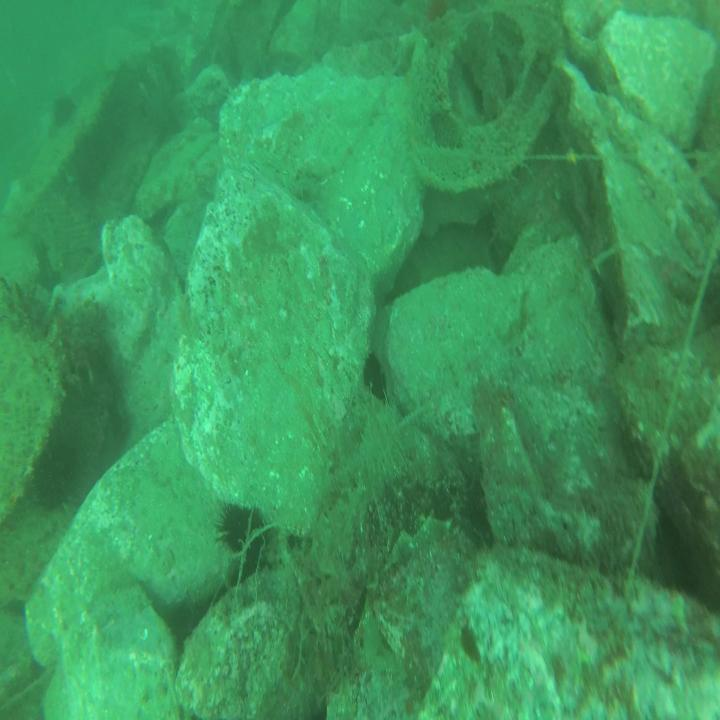echinus: (216, 497, 264, 555), (362, 349, 390, 409), (52, 94, 77, 128)
